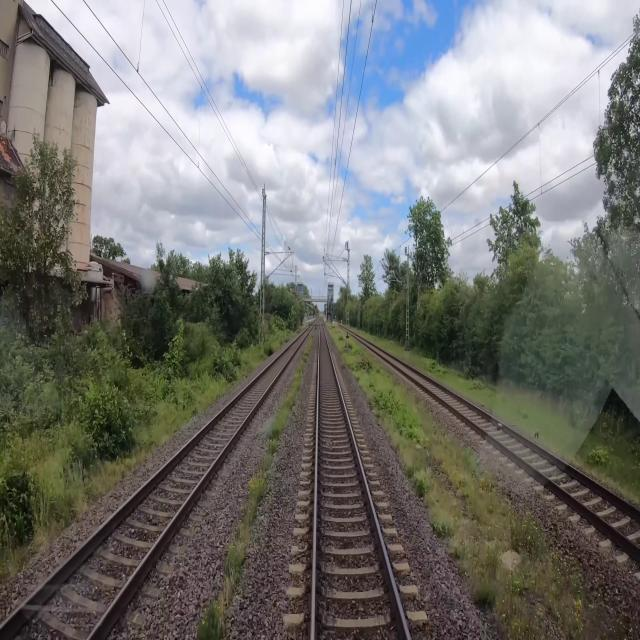Plant: (327, 324, 639, 639), (196, 333, 314, 639)
